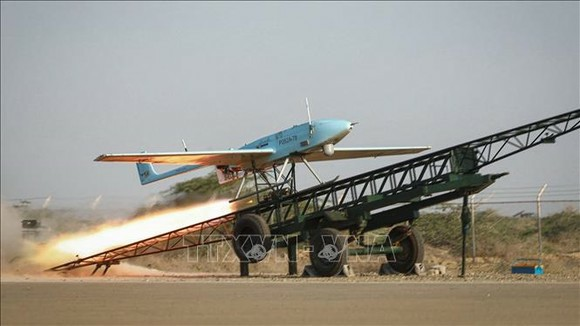maybay_khongnguoilai: (95, 119, 425, 191)
